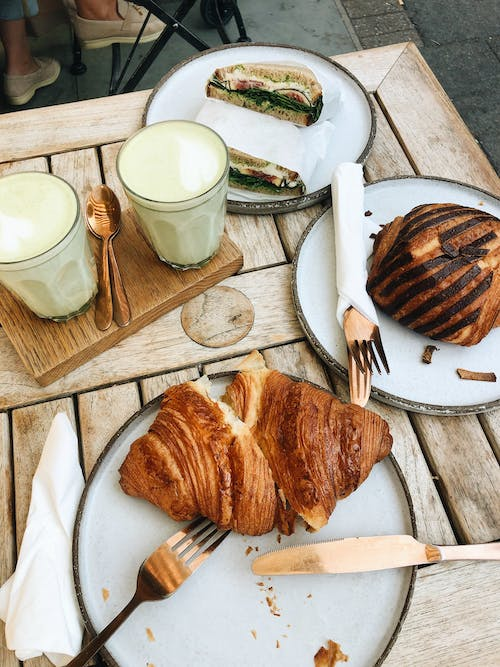knife: (248, 534, 500, 578), (346, 339, 377, 412)
